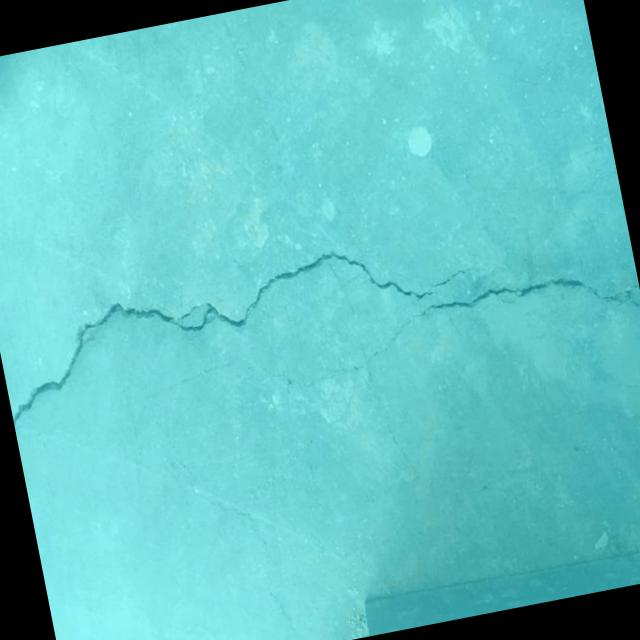crack: (0, 233, 443, 426), (274, 261, 640, 394), (160, 411, 268, 562), (266, 582, 296, 636), (424, 266, 474, 288)
